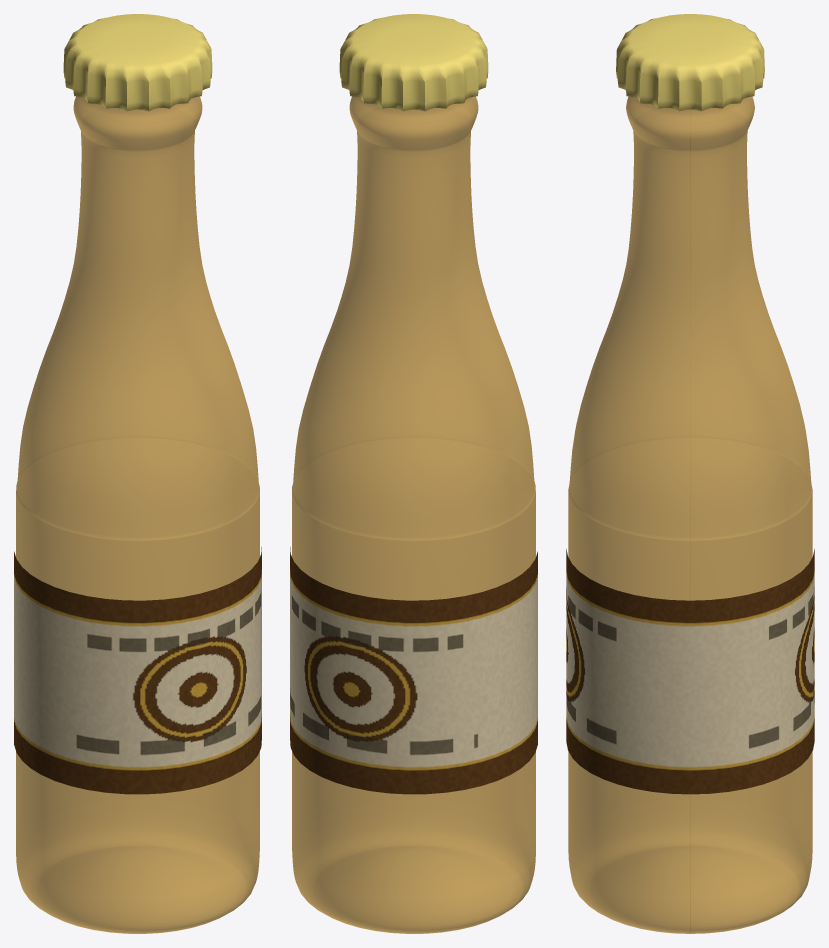
Rendered from botella_vidrio_ambar.glb.
The picture shows the model from 3 angles, left to right: view 1: azimuth 30°, elevation 25°; view 2: azimuth 150°, elevation 25°; view 3: azimuth 270°, elevation 25°; orthographic projection.
Visible parts, largest first — view 1: botella_vidrio_cuerpo, botella_vidrio_etiqueta, botella_vidrio_chapa; view 2: botella_vidrio_cuerpo, botella_vidrio_etiqueta, botella_vidrio_chapa; view 3: botella_vidrio_cuerpo, botella_vidrio_etiqueta, botella_vidrio_chapa.
Boxes of the visible parts, x1,y1,x2,y2 form: botella_vidrio_cuerpo: [16, 96, 259, 933]; botella_vidrio_etiqueta: [14, 547, 261, 794]; botella_vidrio_chapa: [63, 14, 212, 111]; botella_vidrio_cuerpo: [292, 96, 535, 933]; botella_vidrio_etiqueta: [290, 547, 537, 794]; botella_vidrio_chapa: [339, 14, 488, 111]; botella_vidrio_cuerpo: [568, 96, 812, 933]; botella_vidrio_etiqueta: [566, 549, 814, 794]; botella_vidrio_chapa: [616, 14, 764, 111].
Bounding box in the file's own units: 0.0615 × 0.2325 × 0.0615.
Materials: 3 (1 with a texture image).
